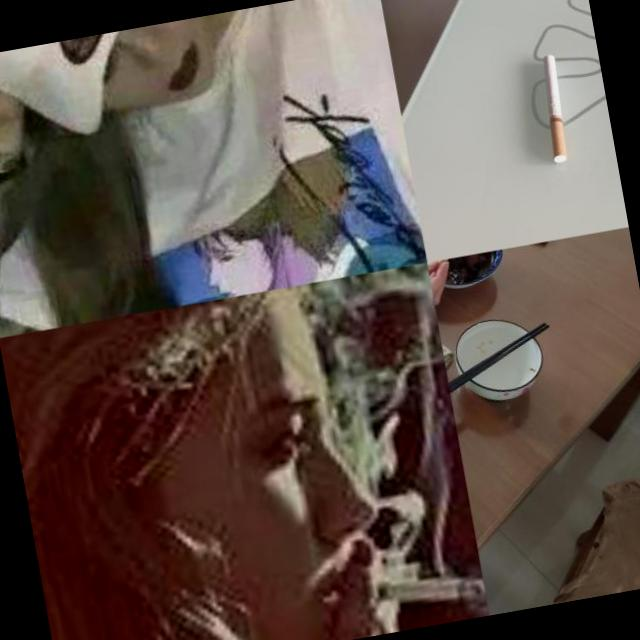cigarette: (335, 556, 487, 628), (532, 52, 573, 163)
